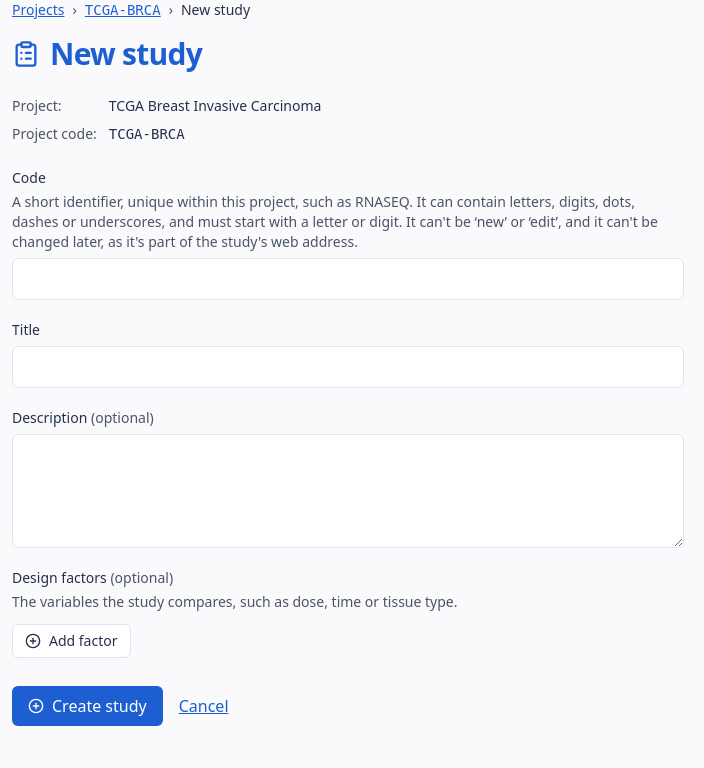
Scenario: NewStudyPage › says when the project does not exist
This screenshot has width=704, height=768.
Type "RNASEQ" into the field labelled "Code" at (348, 279), box [12, 258, 684, 300]
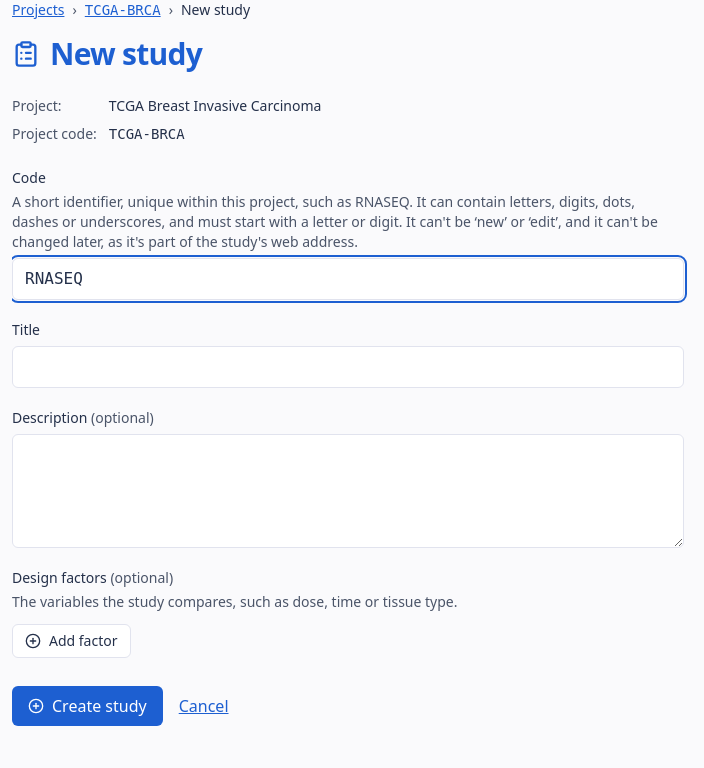
Type "RNA-seq of primary tumours" into the field labelled "Title" at (348, 367), box [12, 346, 684, 388]
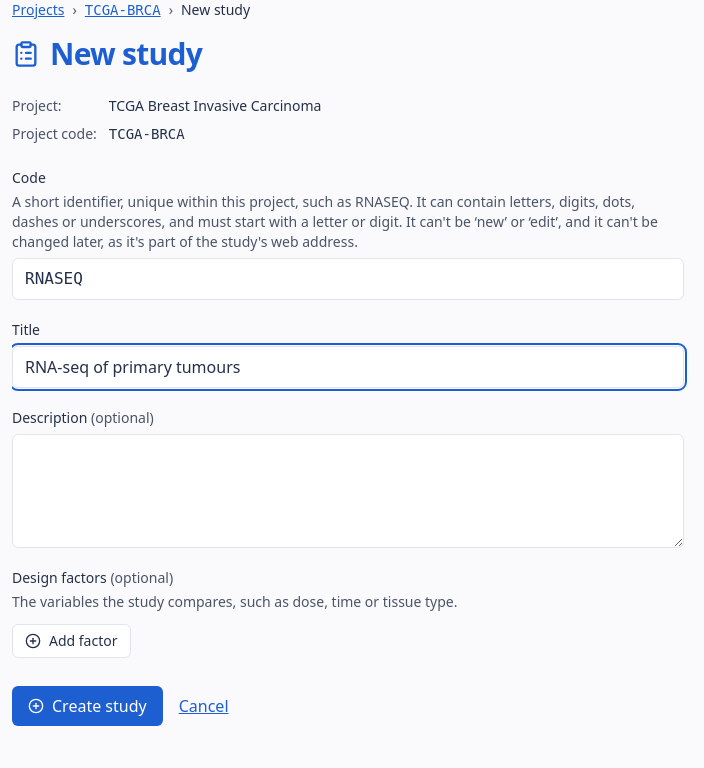
Click the button "Create study" at (87, 706), box [12, 686, 163, 726]
(page scrolled)
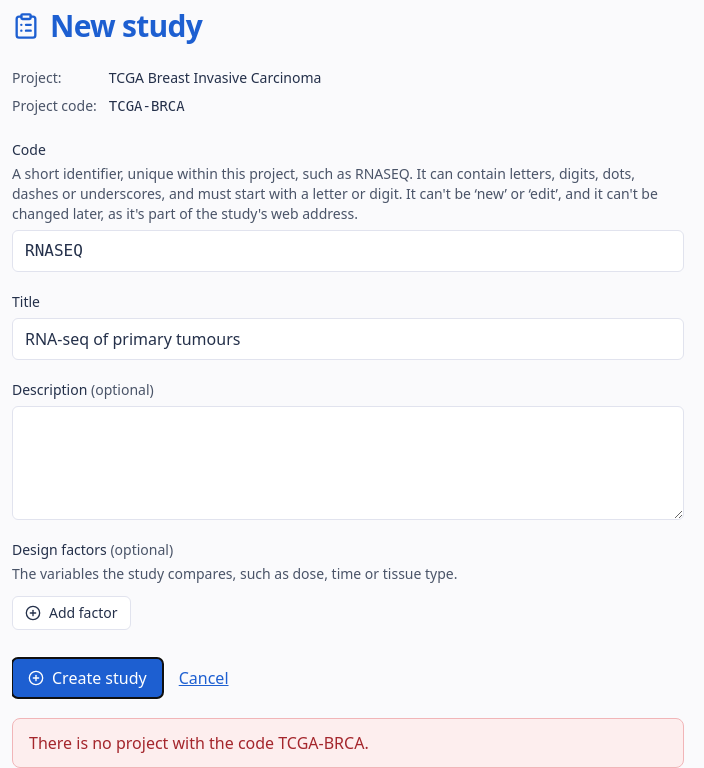
Result: the message reads "There is no project with the code TCGA-BRCA." at [29, 732, 369, 754]
